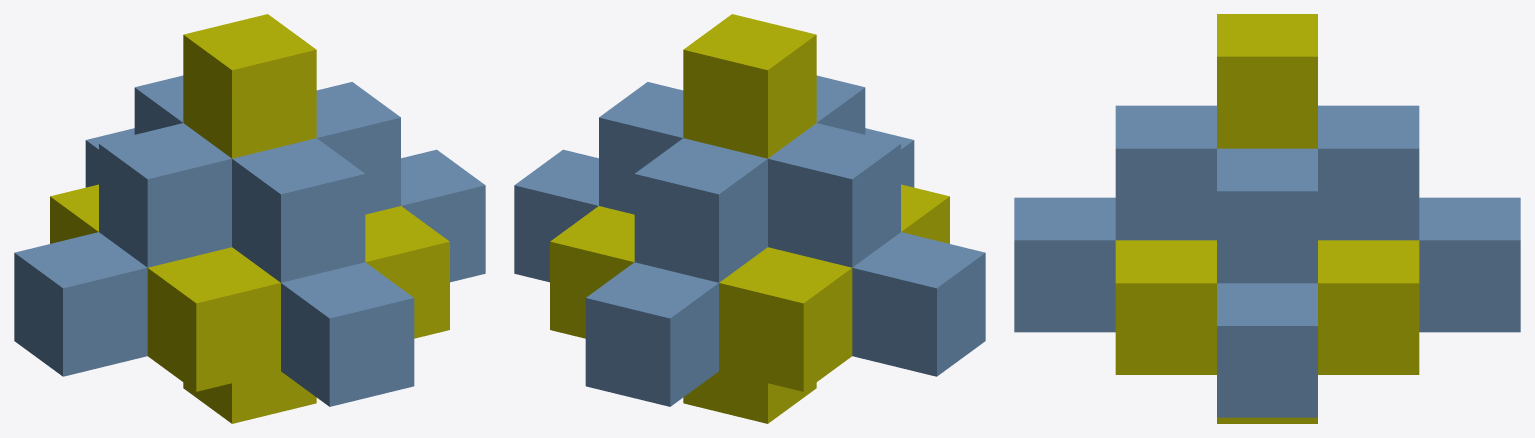
File: pointer.glb
The picture shows the model from 3 angles, left to right: view 1: azimuth 30°, elevation 25°; view 2: azimuth 150°, elevation 25°; view 3: azimuth 270°, elevation 25°; orthographic projection. The views are drawn at different scales.
Bounding box in the file's own units: 0.5 × 0.4 × 0.5.
1 material, 1 textured.
